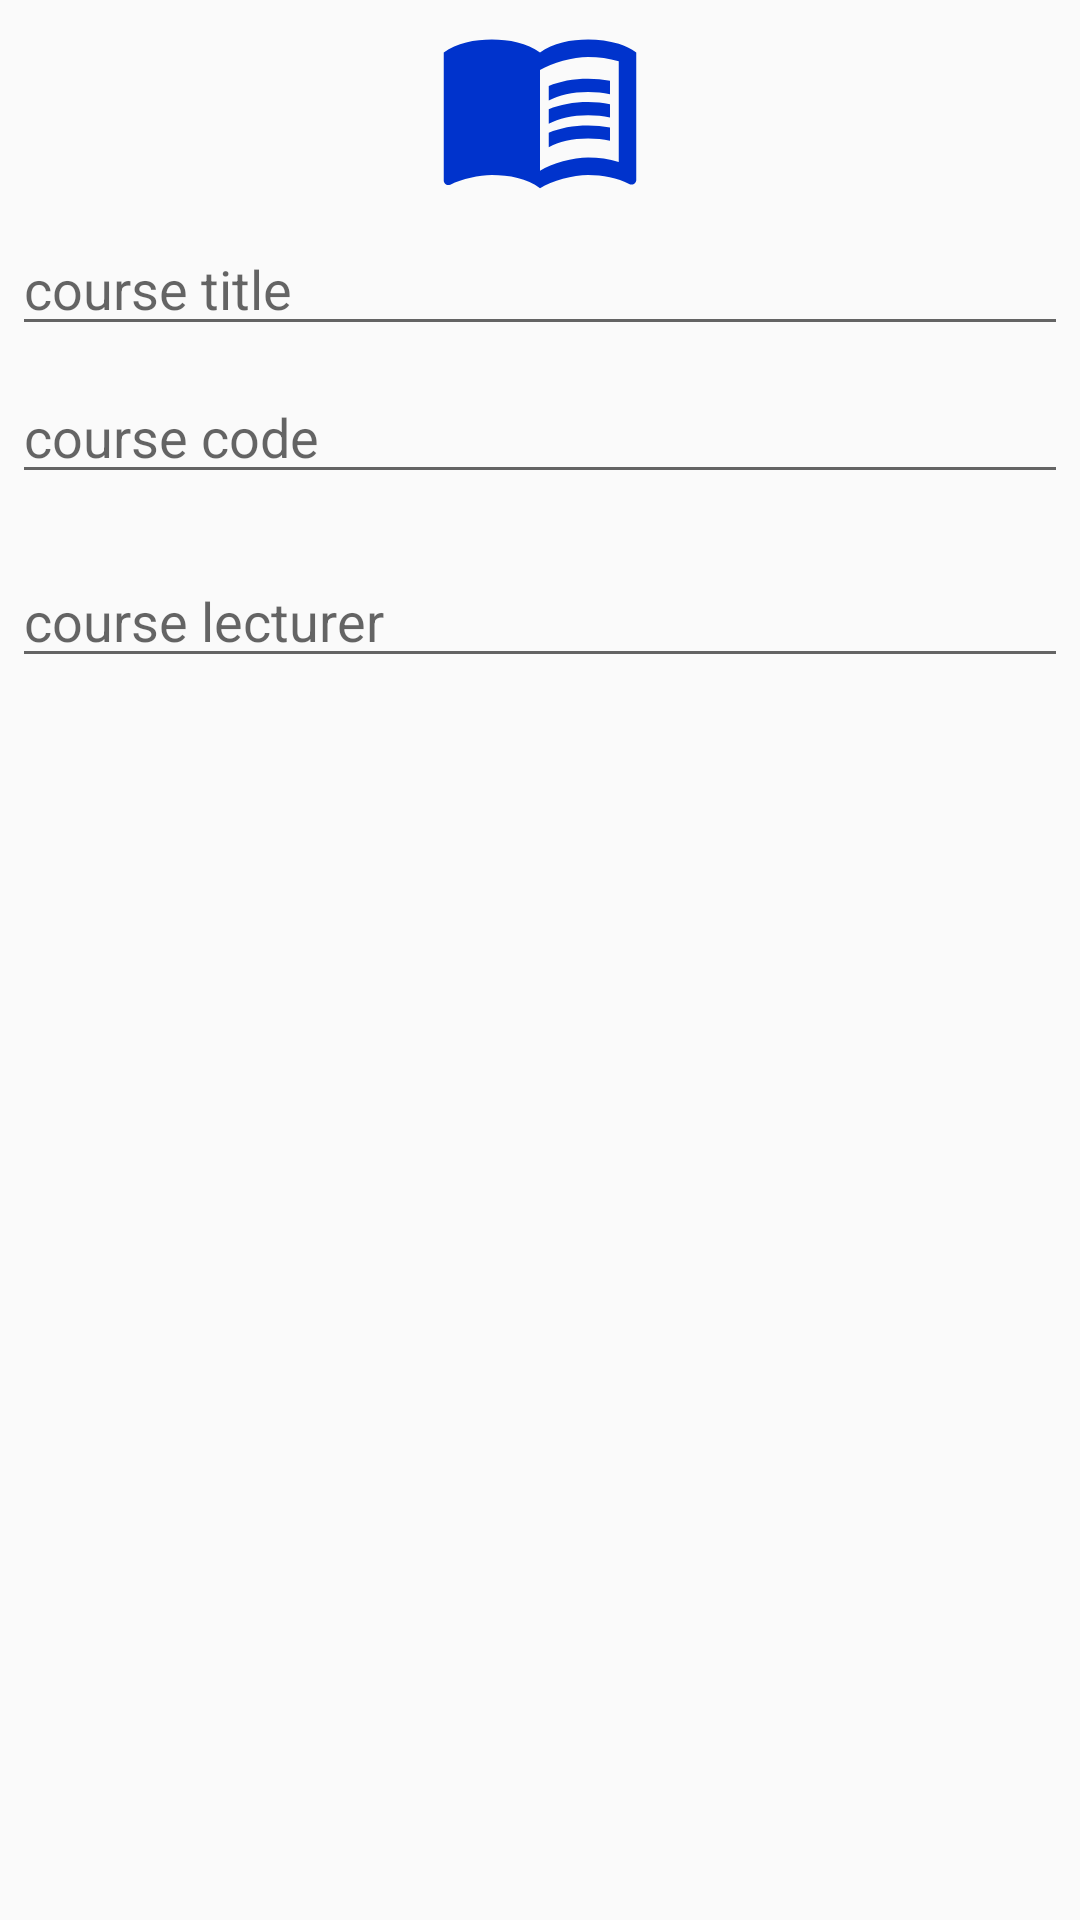

Where to tap for icons on this 1080x1920 app screen, as [x,y]:
book: [540,113]
